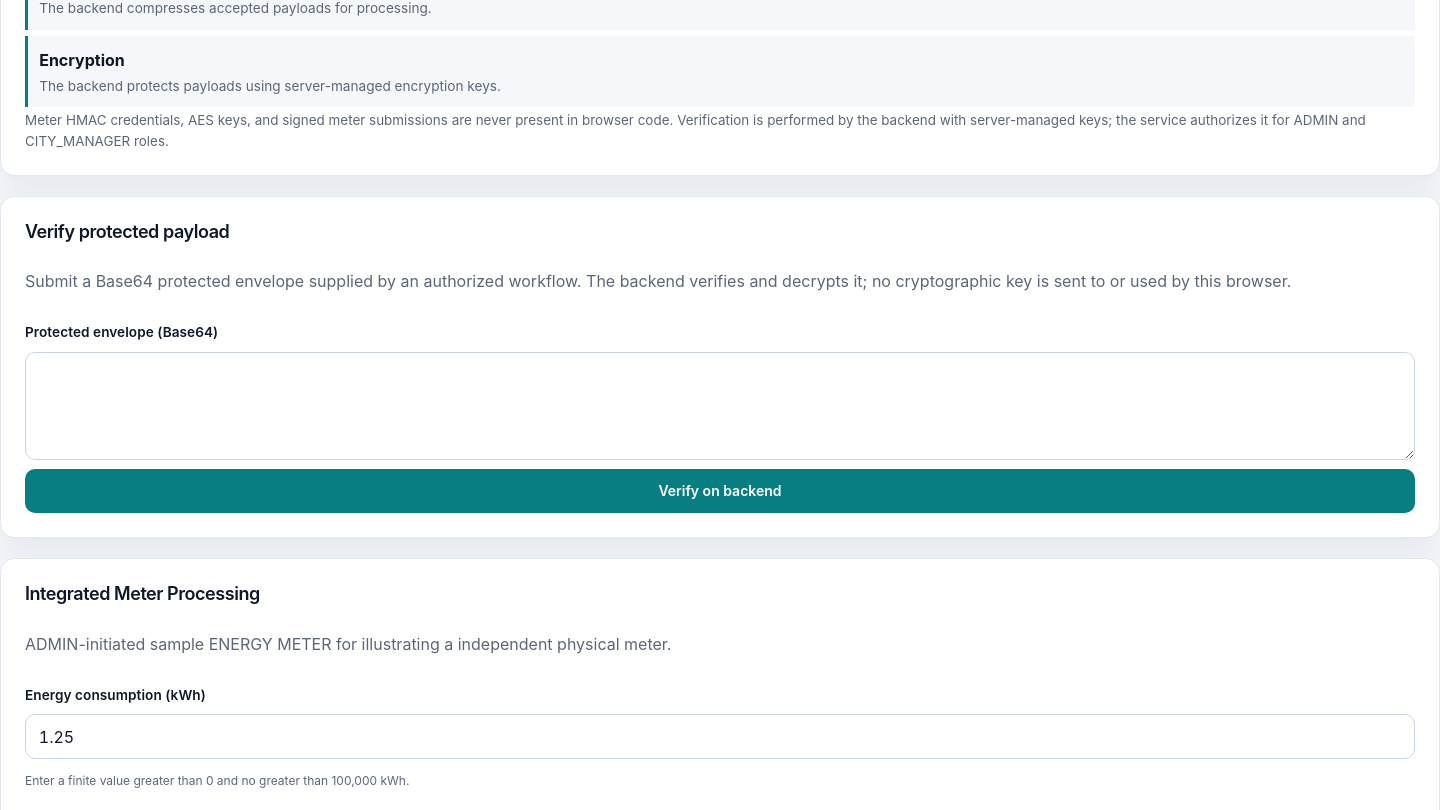
it: EnergyPage › preserves processing history and protected payload verification
(page scrolled)
Expected: the heading "Verify protected payload" is shown, [25,221,229,242]
Type "U0MzNg==" into the text box labelled "Protected envelope (Base64)" at (720, 406), box [25,352,1415,460]
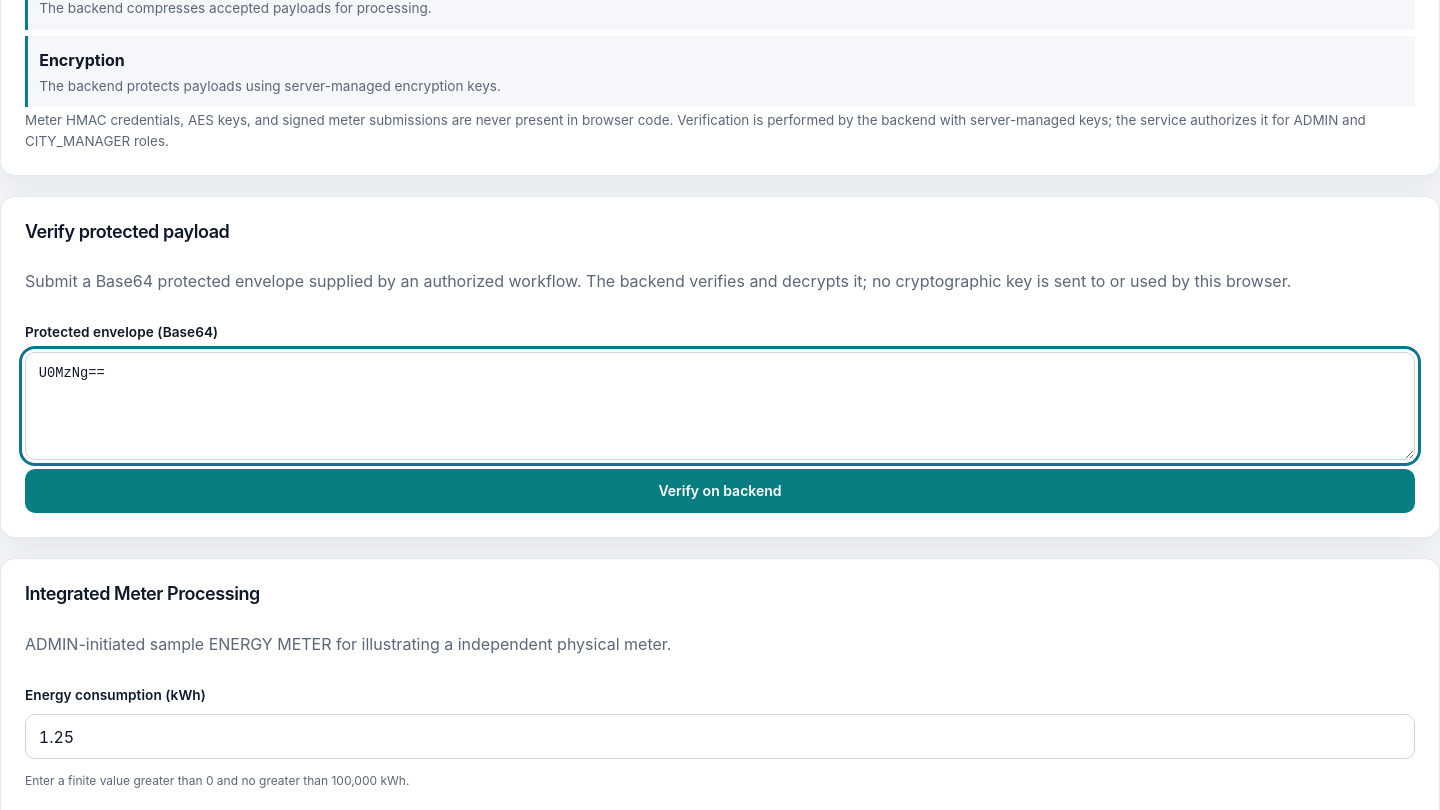
Click the button "Verify on backend" at (720, 491), box [25,469,1415,513]
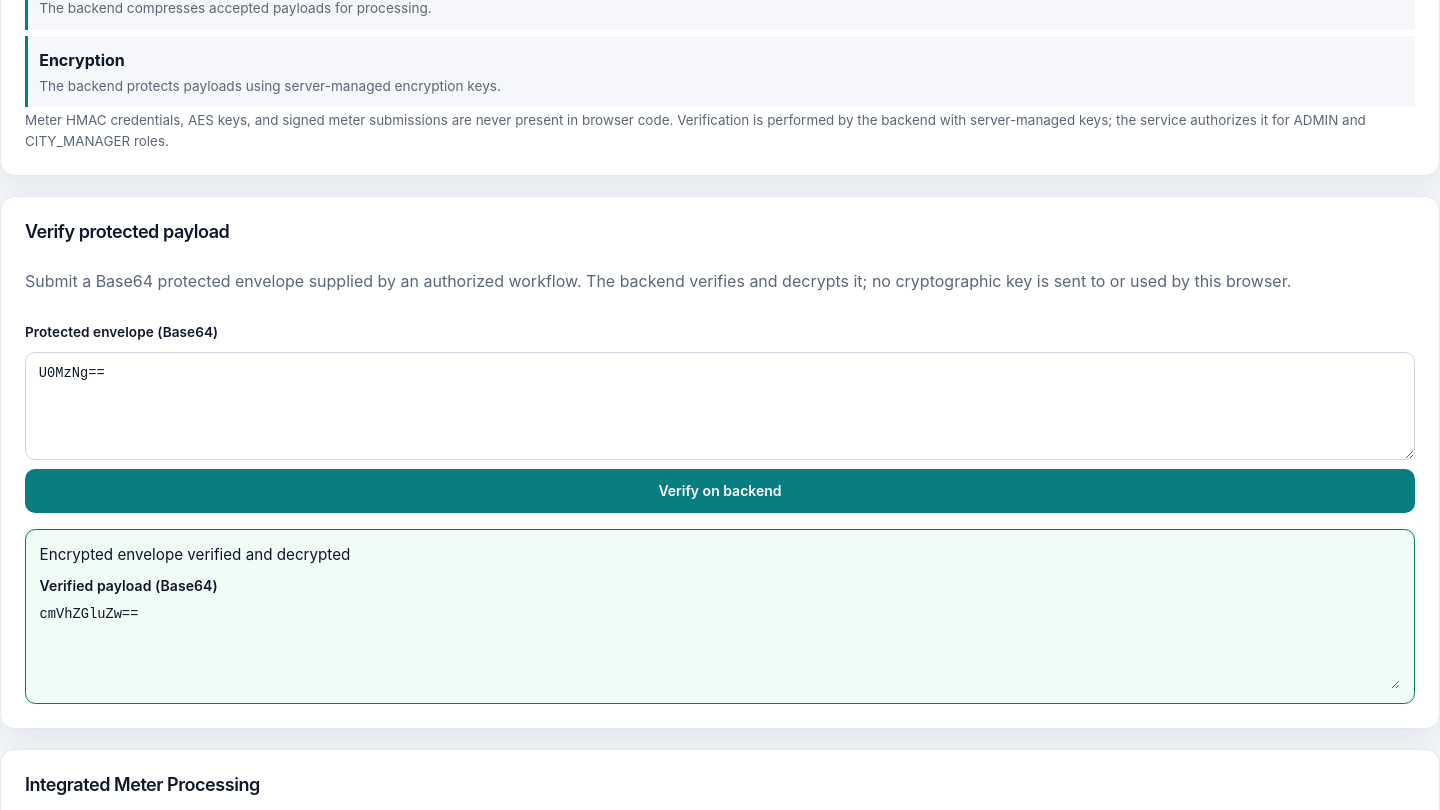
Expected: the heading "Encrypted envelope verified and decrypted" is shown, [40,545,350,564]
